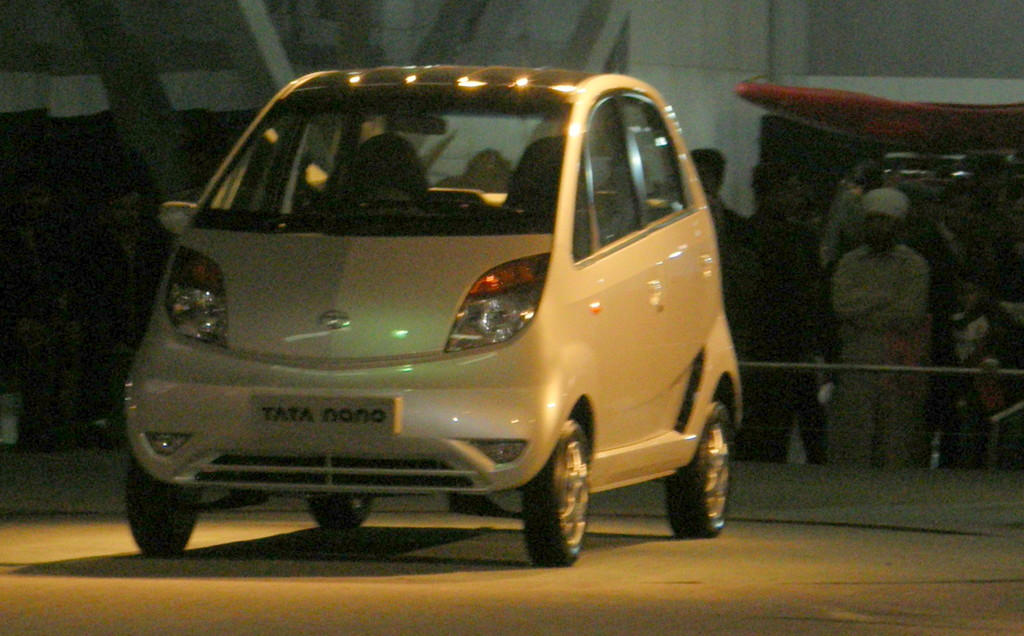person: (300, 132, 431, 209)
